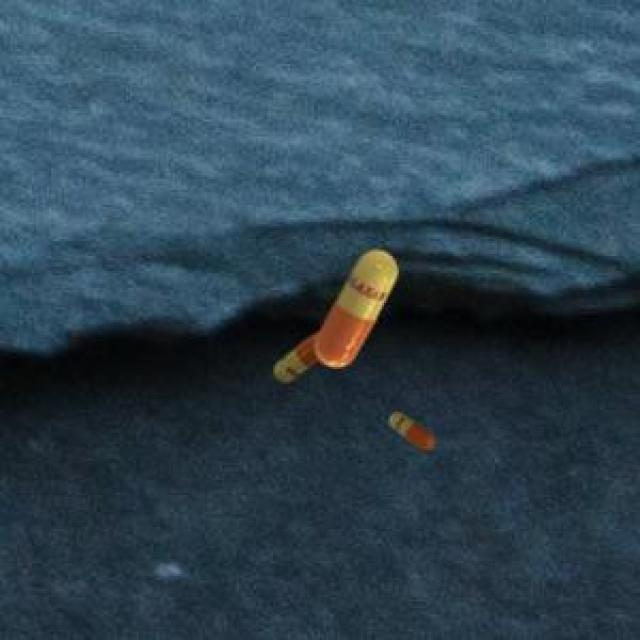Alaxan: (260, 245, 408, 393), (380, 406, 449, 461)
